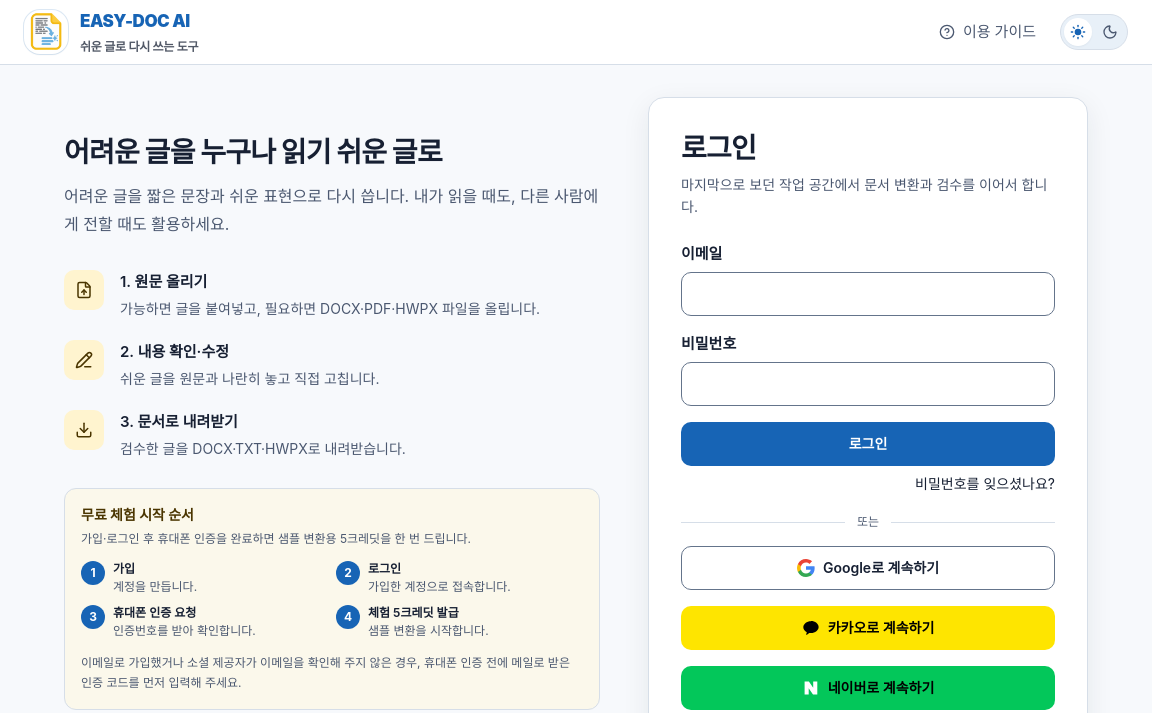
구글 로그인 시작 (로그인 화면) › 제공자가 설정되지 않았으면(422) 버튼 아래에 안내하고 이메일 폼은 그대로 쓸 수 있다
Click the button "Google로 계속하기" at (868, 568), box [681,546,1055,590]
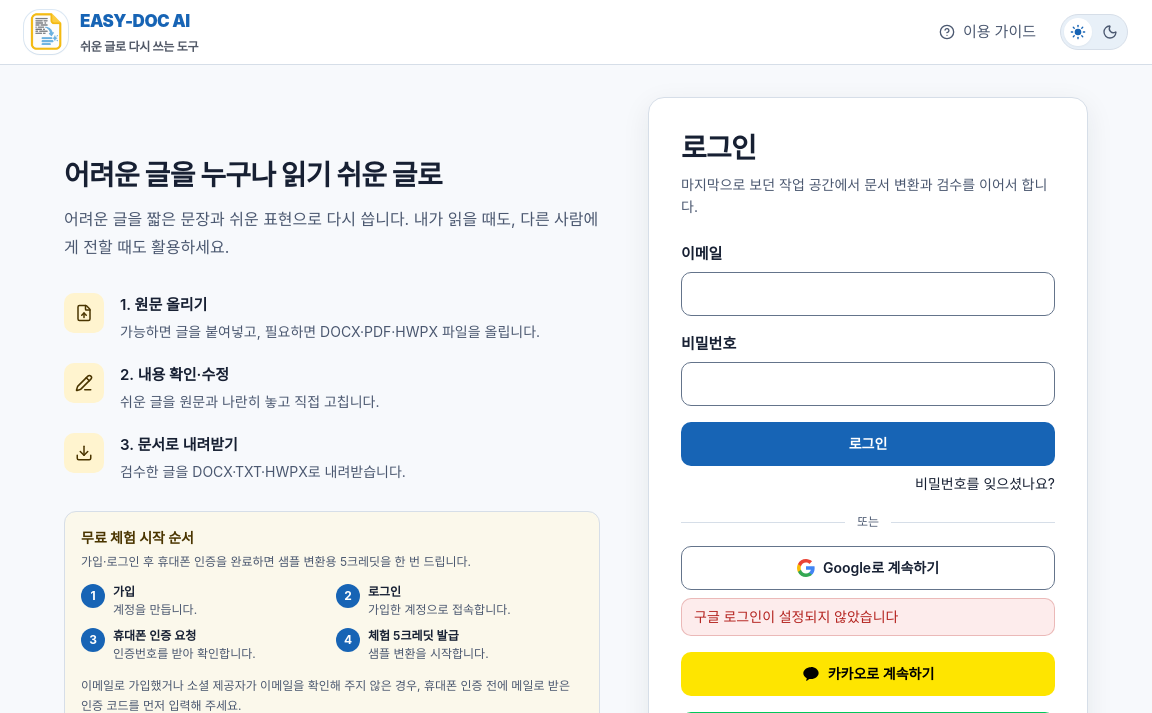
Expected: the field labelled "이메일" is enabled, [681,272,1055,316]
Now the text "구글 로그인이 설정되지 않았습니다" is shown, box [681,598,1055,636]
